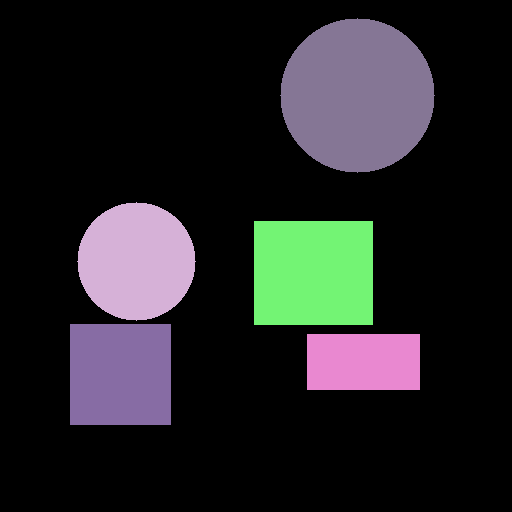circle: (280, 18, 434, 172), (77, 202, 195, 320)
rectangle: (254, 221, 372, 324), (307, 334, 419, 389)
square: (70, 324, 170, 424)
